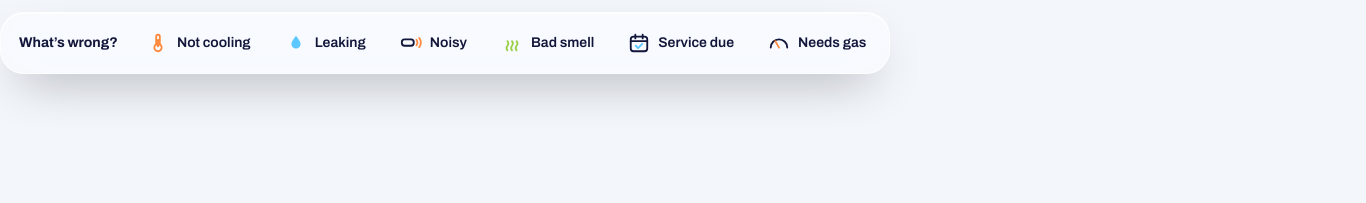
ProblemDock › shows the matching service, its live price and a Book link
Click the button "Leaking": (325, 43) [270,21,381,65]
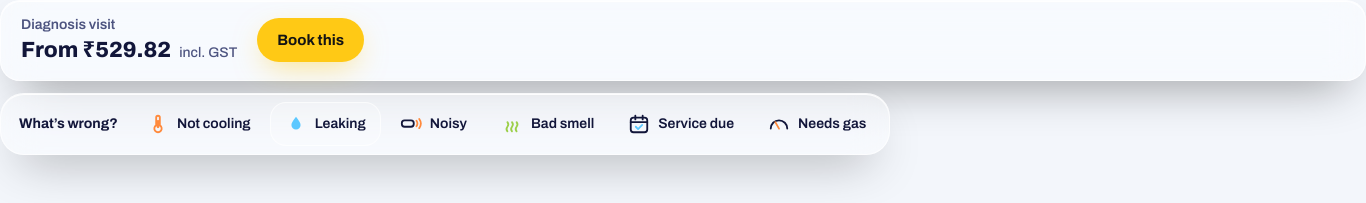
expect the text "Diagnosis visit" is shown: met, box [21,17,115,32]
expect the text "From ₹529.82" is shown: met, box [21,38,171,62]
